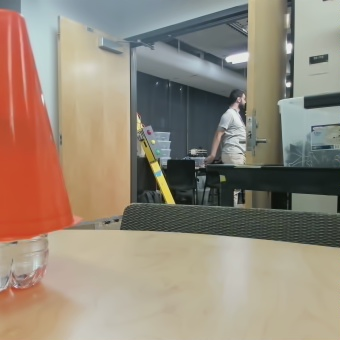Cone: (0, 9, 73, 230)
